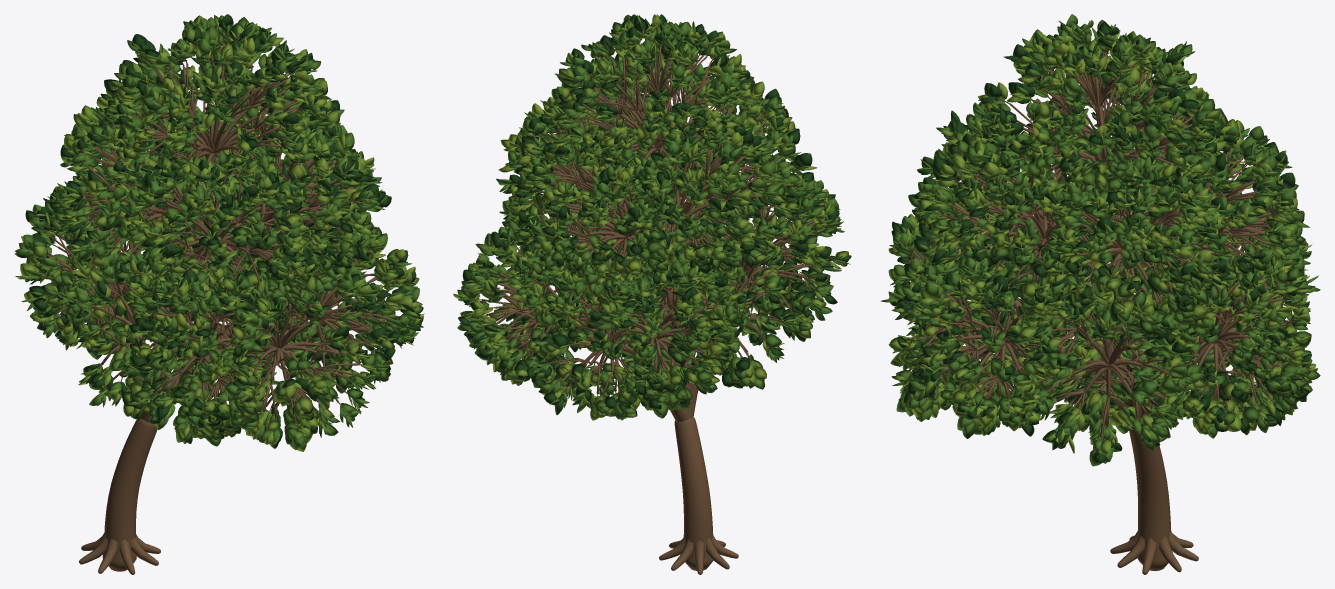
File: tree_garden_big.glb
3 renders of one model, left to right at view 1: azimuth 30°, elevation 25°; view 2: azimuth 150°, elevation 25°; view 3: azimuth 270°, elevation 25°, orthographic. The views are drawn at different scales.
Visible parts, largest first — view 1: Sammel Pflanze, Sammel Holz; view 2: Sammel Pflanze, Sammel Holz; view 3: Sammel Pflanze, Sammel Holz.
Part boxes in pixels (x1,y1,x2,y2): Sammel Pflanze: (15, 14, 424, 451); Sammel Holz: (38, 31, 402, 574); Sammel Pflanze: (453, 14, 851, 420); Sammel Holz: (470, 28, 837, 574); Sammel Pflanze: (881, 14, 1320, 466); Sammel Holz: (907, 29, 1293, 574).
Bounding box in the file's own units: 5.51 × 10.64 × 7.34.
